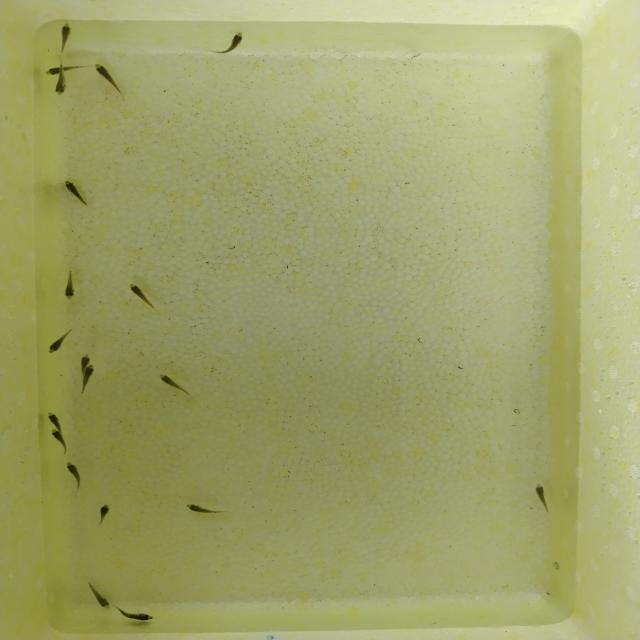fingerling: (56, 179, 92, 200), (224, 30, 246, 57), (46, 328, 64, 361), (61, 273, 80, 303), (92, 588, 115, 610), (58, 22, 76, 50), (182, 499, 210, 517), (96, 61, 114, 87), (59, 462, 88, 478), (128, 280, 146, 304), (530, 481, 549, 503), (156, 373, 180, 388), (130, 612, 158, 624), (53, 80, 73, 96), (75, 352, 94, 368), (44, 410, 62, 426), (48, 428, 68, 442), (98, 504, 112, 522), (83, 363, 99, 378), (43, 64, 59, 76)
